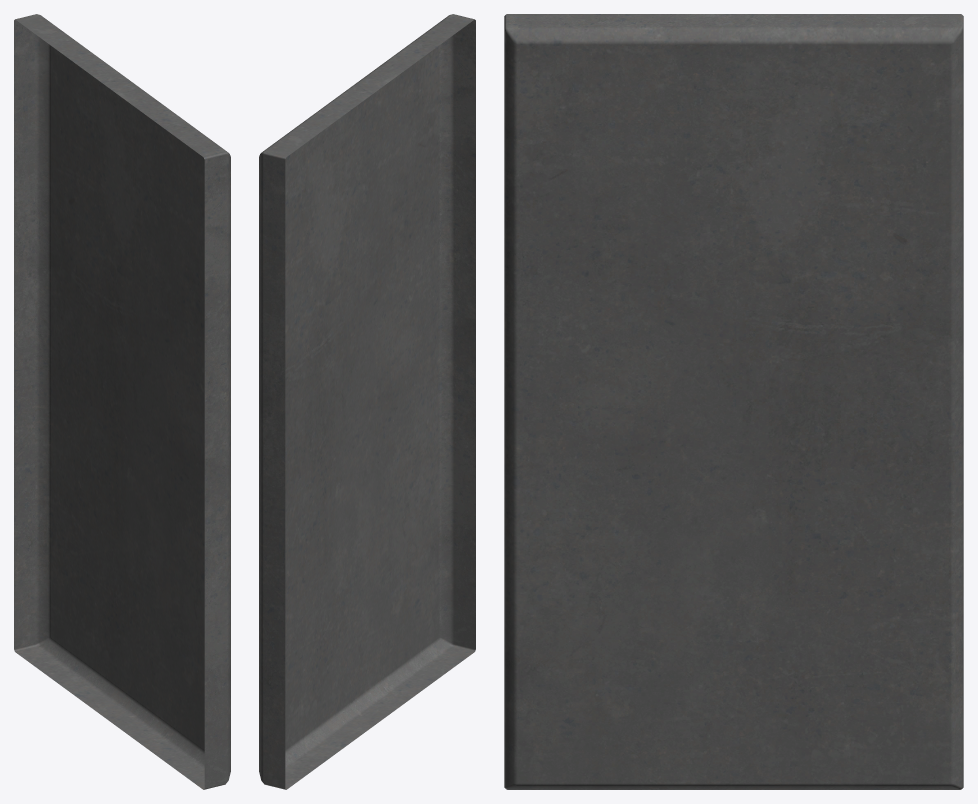
The model's file is cP_Pathway03_SteppingStoneLong02.dae.
3 renders of one model, left to right at view 1: azimuth 30°, elevation 25°; view 2: azimuth 150°, elevation 25°; view 3: azimuth 270°, elevation 25°, orthographic. The views are drawn at different scales.
Visible parts, largest first — view 1: cP_Pathway03_SteppingStoneLong02.001; view 2: cP_Pathway03_SteppingStoneLong02.001; view 3: cP_Pathway03_SteppingStoneLong02.001.
Boxes of the visible parts, x1,y1,x2,y2 form: cP_Pathway03_SteppingStoneLong02.001: [14, 14, 230, 789]; cP_Pathway03_SteppingStoneLong02.001: [259, 14, 475, 789]; cP_Pathway03_SteppingStoneLong02.001: [504, 14, 963, 789].
Bounding box in the file's own units: 0.0499 × 0.5222 × 0.9566.
